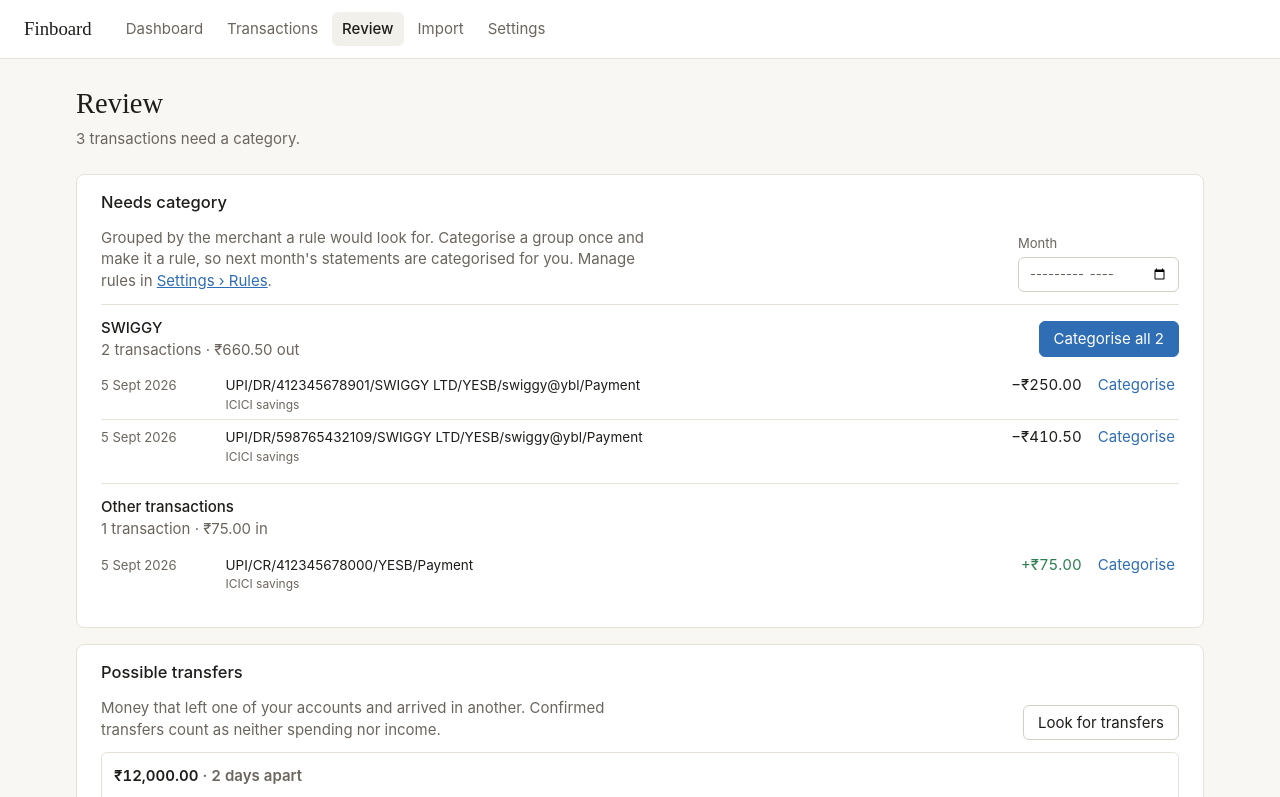
Test case: Review page › categorises a group, creates the suggested rule and offers to apply it
Click the button "Categorise all 2".
click(1109, 339)  # box x1=1038 y1=321 x2=1179 y2=357
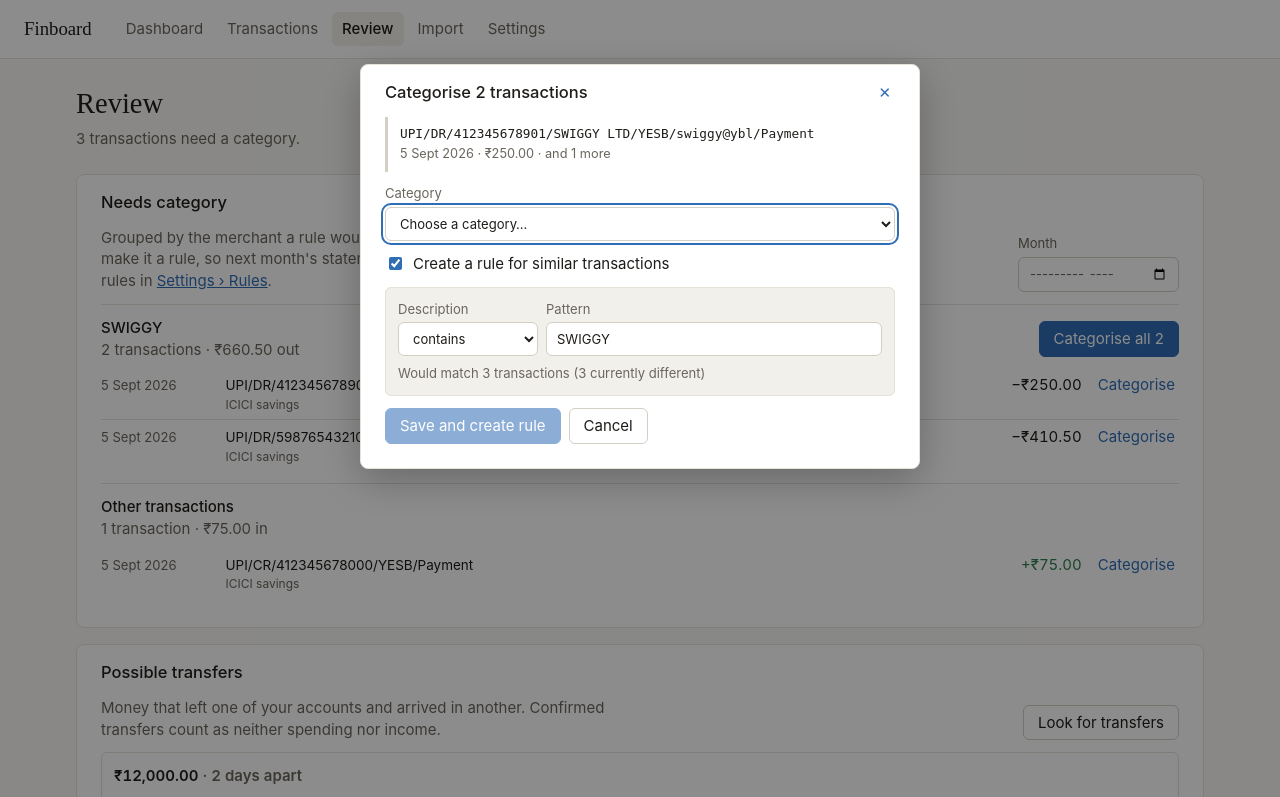
Expected: the field labelled "Pattern" holds "SWIGGY", x1=546 y1=322 x2=882 y2=356
Expected: the text "Would match 3 transactions (3 currently different)" is shown, x1=398 y1=366 x2=705 y2=382
Select "Dining out" in the dropdown labelled "Category" at (640,224), box x1=385 y1=207 x2=895 y2=241
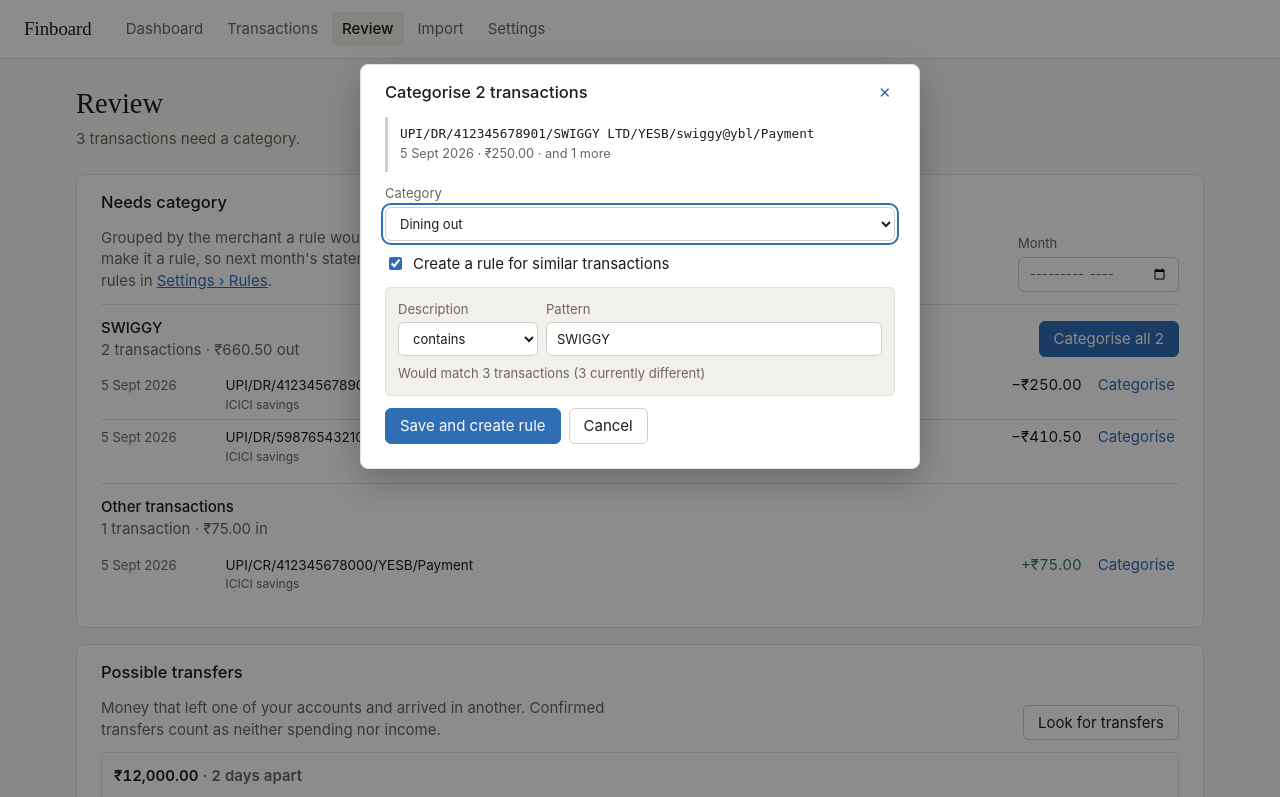
Click the button "Save and create rule".
click(473, 426)  # box x1=385 y1=408 x2=560 y2=444
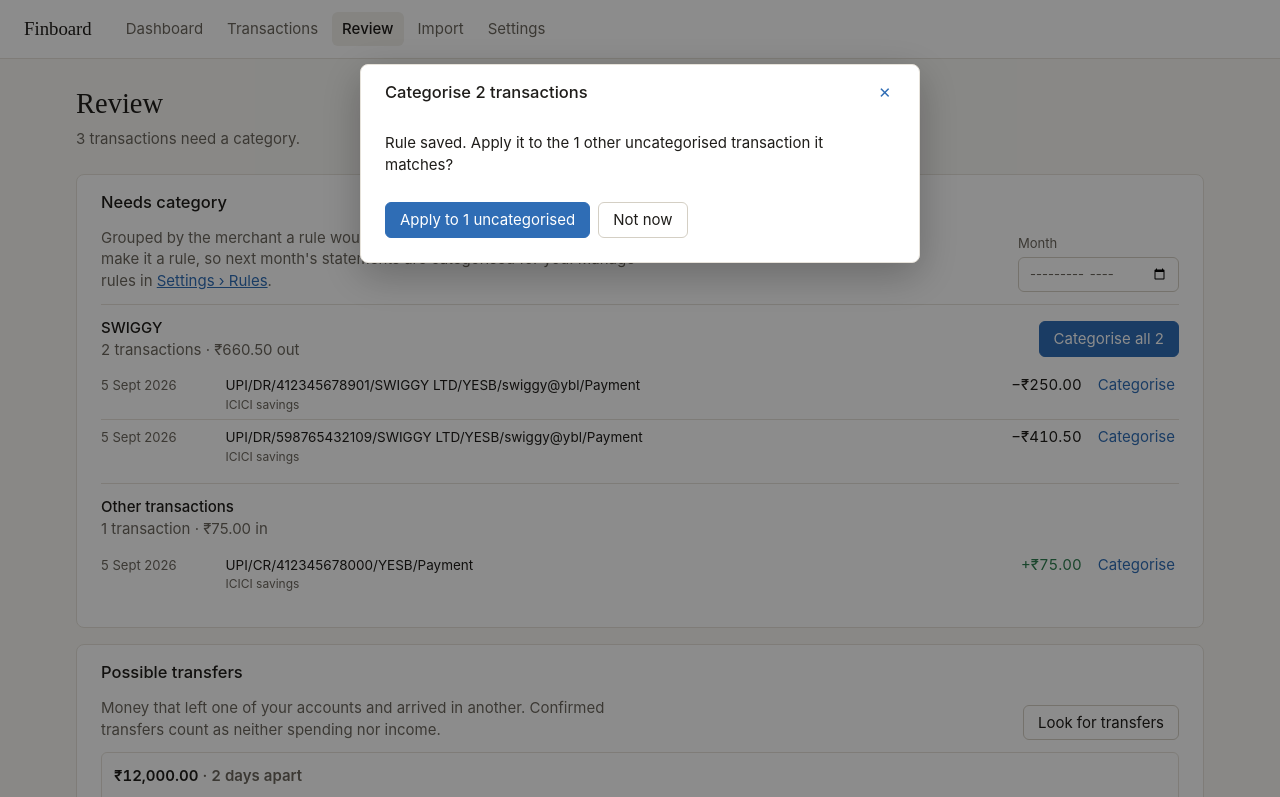
Click the button "Apply to 1 uncategorised".
click(488, 220)  # box x1=385 y1=202 x2=590 y2=238
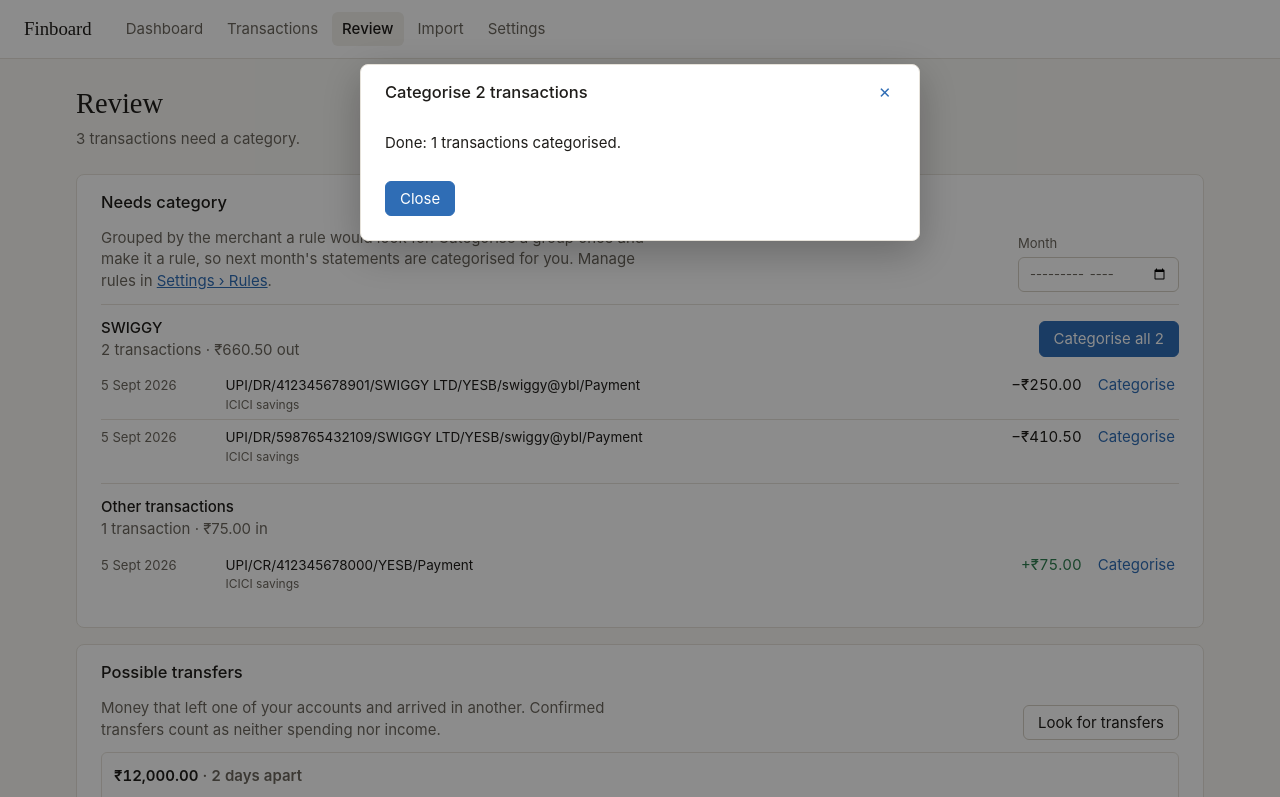
Expected: the text "Done: 1 transactions categorised." is shown, x1=385 y1=133 x2=621 y2=152
